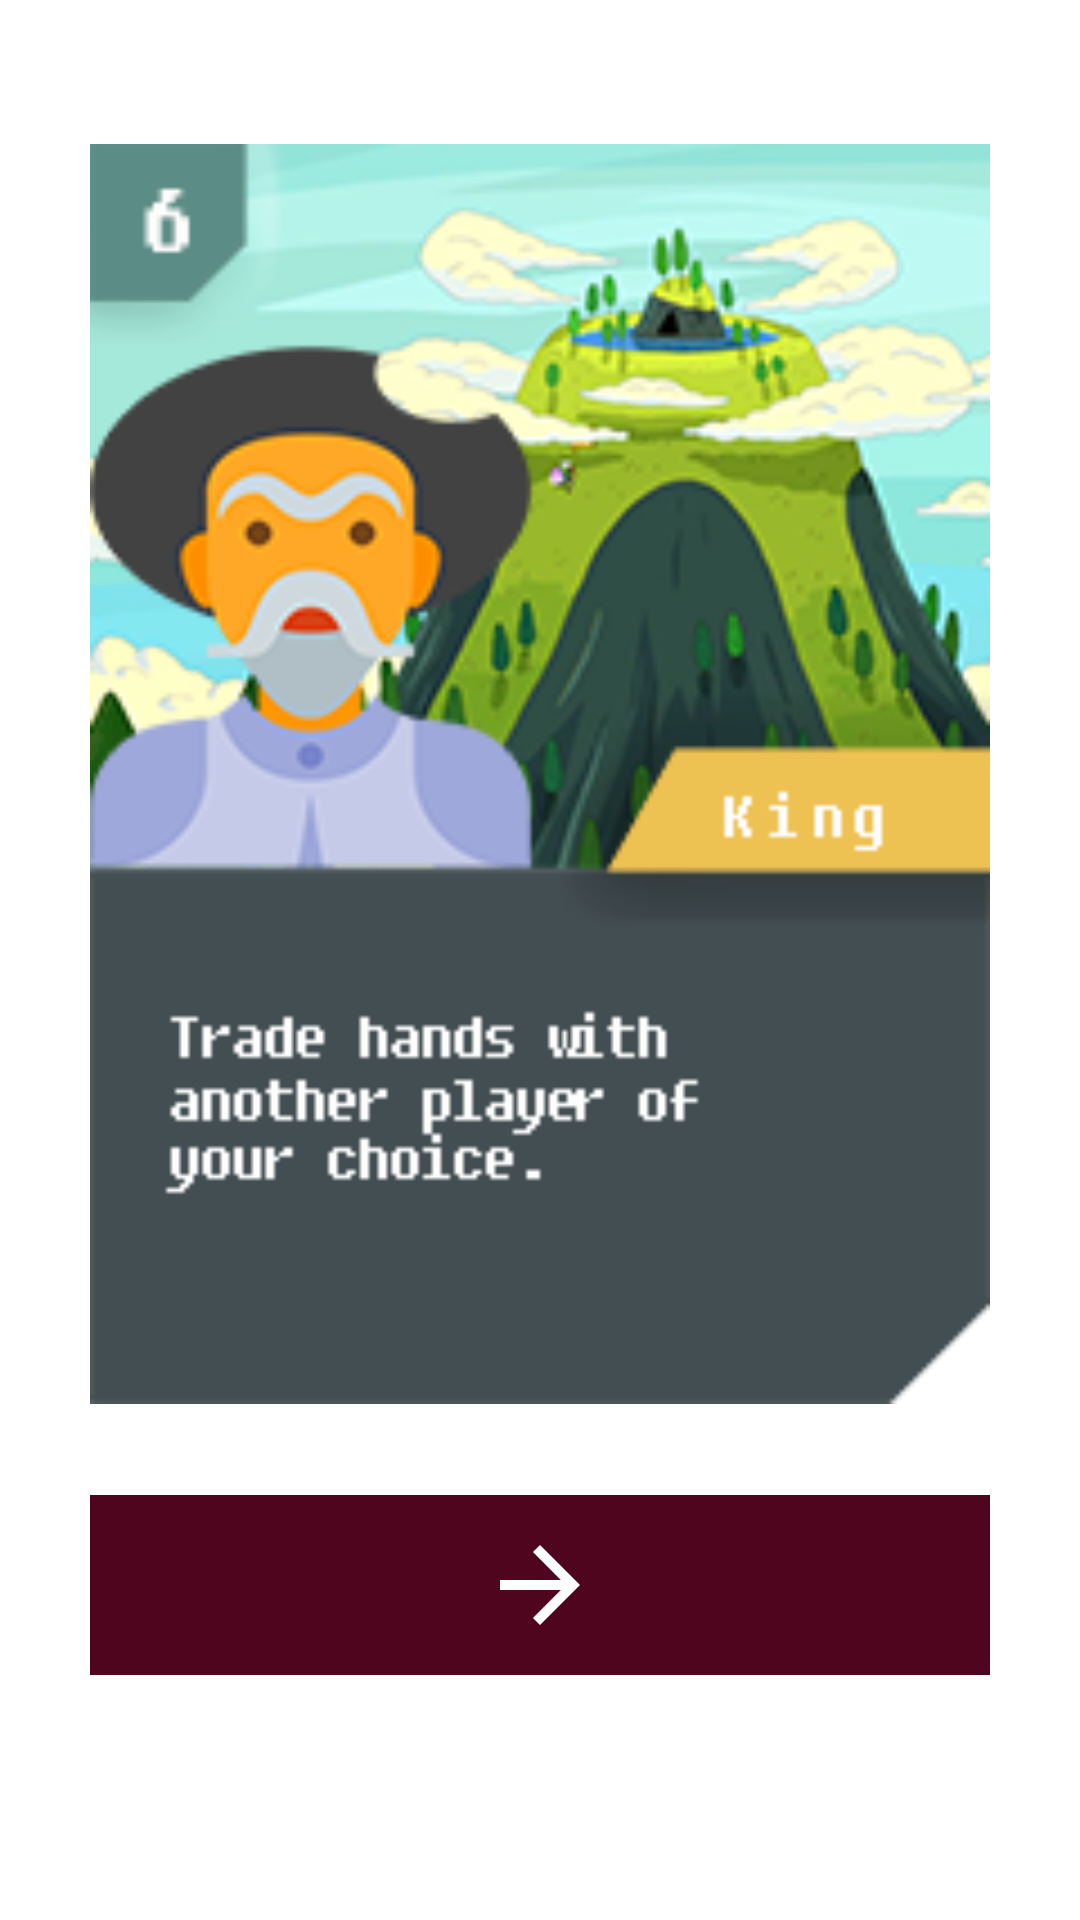

Screen size 1080*1920. Icon name, then its center in pixels as [x,y]:
arrow right: [540,1585]
